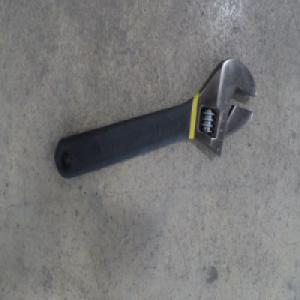AdjustableWrench: (55, 58, 257, 181)
